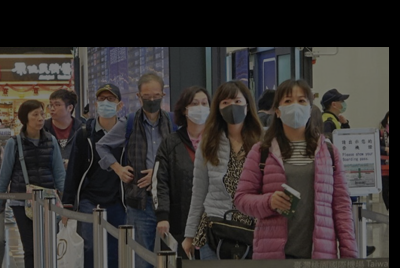with_mask: (280, 94, 312, 130), (219, 96, 248, 126), (186, 96, 210, 126), (96, 94, 118, 119), (140, 93, 164, 115), (336, 98, 348, 113)
without_mask: (28, 110, 46, 131), (48, 101, 64, 121)
